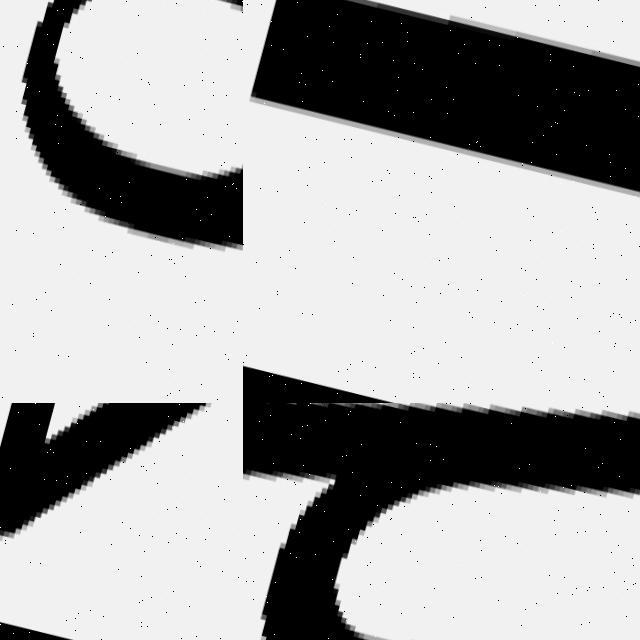9: (0, 0, 243, 329)
H: (243, 403, 640, 640)
L: (243, 0, 640, 267)
Z: (0, 403, 243, 640)
